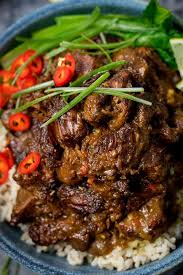rendang: (3, 12, 183, 256)
